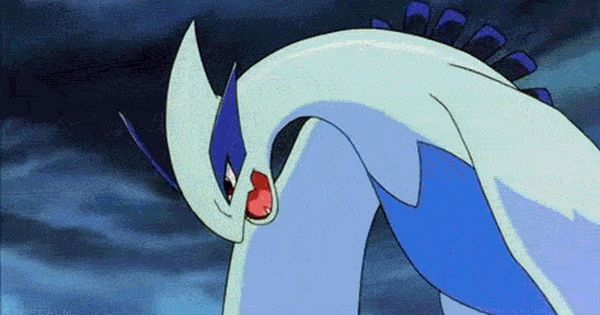lugia: (118, 20, 322, 244)
